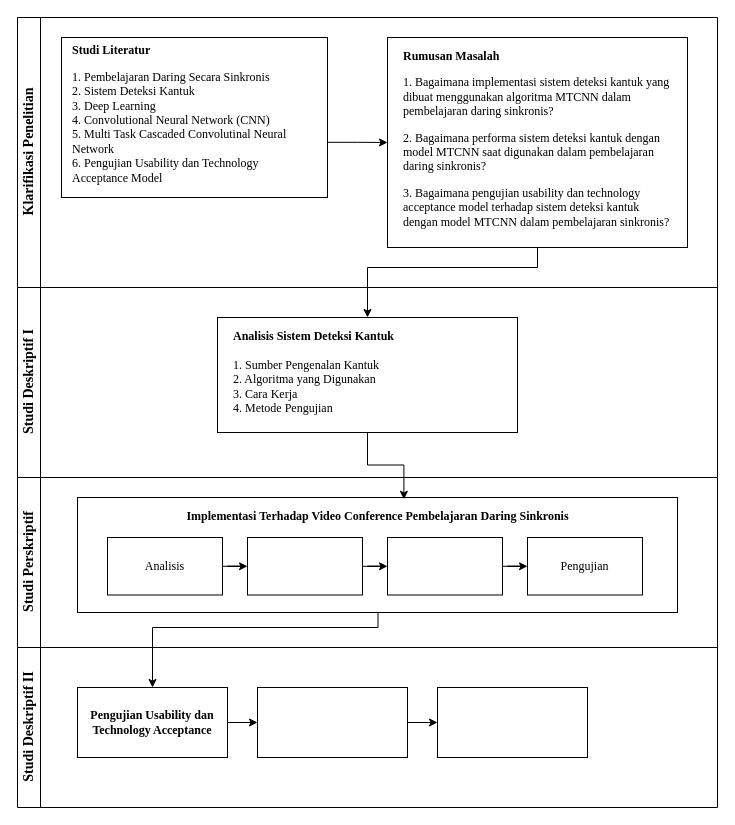
Image size: 735x825. Some labels were removed from this diagram. Each missing label, with the centre of its shape:
"Dokumentasi" goes at point (512, 722).
"Pembahasan Hasil dan Kesimpulan" goes at point (332, 722).
"Prototipe" goes at point (444, 565).
"Traning Data" goes at point (304, 565).
